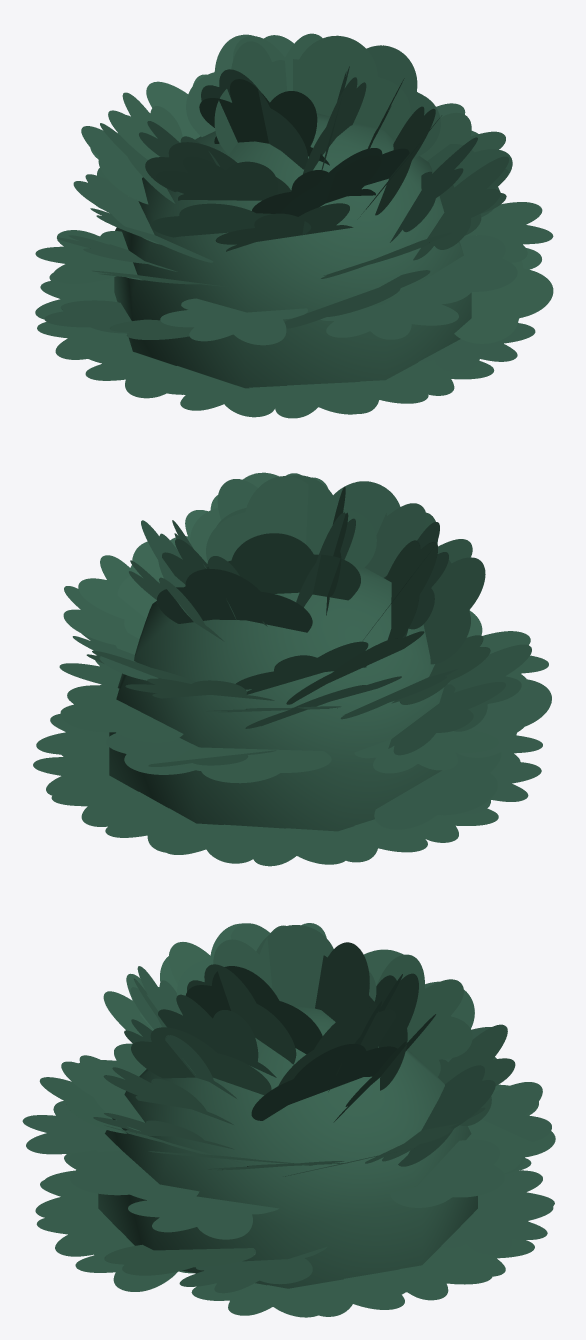
Rendered from FBX_Bush_1.fbx.
The picture shows the model from 3 angles, top to bottom: view 1: azimuth 30°, elevation 25°; view 2: azimuth 150°, elevation 25°; view 3: azimuth 270°, elevation 25°; orthographic projection. The views are drawn at different scales.
Parts seen in each view (by area): view 1: Bush; view 2: Bush; view 3: Bush.
Part boxes in pixels (left/top/right/bottom): Bush: left=35, top=33, right=553, bottom=418; Bush: left=33, top=472, right=551, bottom=866; Bush: left=22, top=923, right=555, bottom=1317.
Size of the model in its own units: 75.5 by 74.52 by 39.17.
